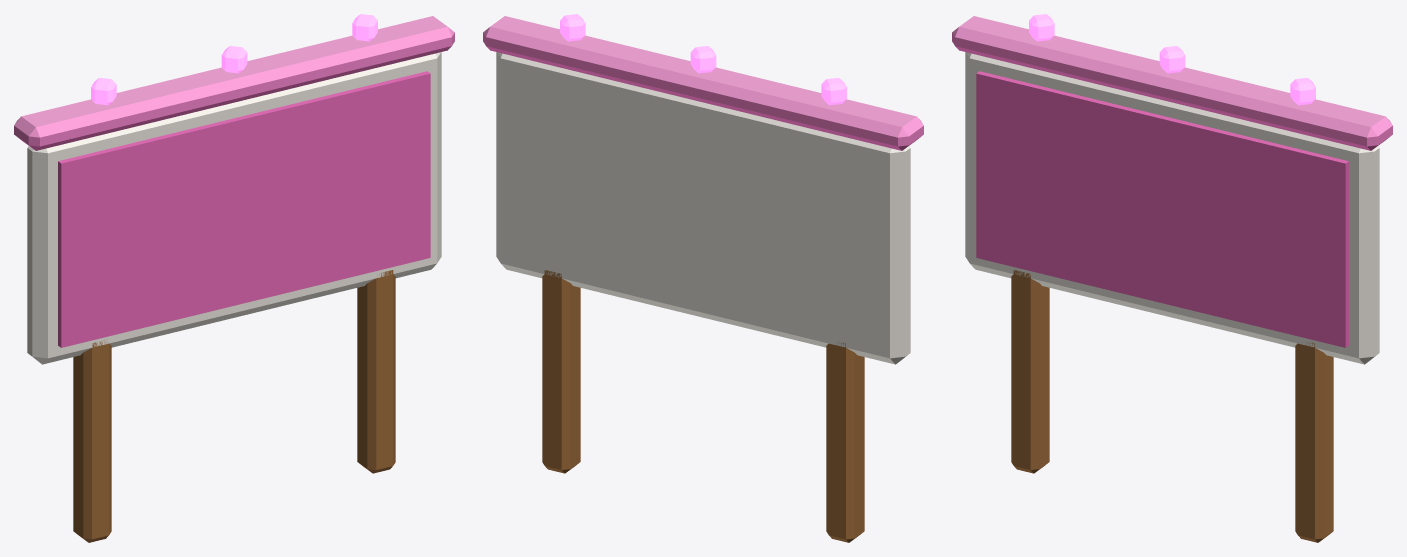
File: OwnerBoard_6.glb
3 renders of one model, left to right at view 1: azimuth 30°, elevation 25°; view 2: azimuth 150°, elevation 25°; view 3: azimuth 330°, elevation 25°, orthographic.
Visible parts, largest first — view 1: OwnerBoard_6, OwnerBoard_6_Glow_acc6; view 2: OwnerBoard_6, OwnerBoard_6_Glow_acc6; view 3: OwnerBoard_6, OwnerBoard_6_Glow_acc6.
Part boxes in pixels (x1,y1,x2,y2): OwnerBoard_6: [14, 16, 454, 542]; OwnerBoard_6_Glow_acc6: [91, 14, 377, 105]; OwnerBoard_6: [483, 16, 923, 542]; OwnerBoard_6_Glow_acc6: [560, 14, 846, 105]; OwnerBoard_6: [952, 16, 1392, 542]; OwnerBoard_6_Glow_acc6: [1029, 14, 1315, 105].
Bounding box in the file's own units: 15 × 15.25 × 1.4.
2 materials, 1 textured.
